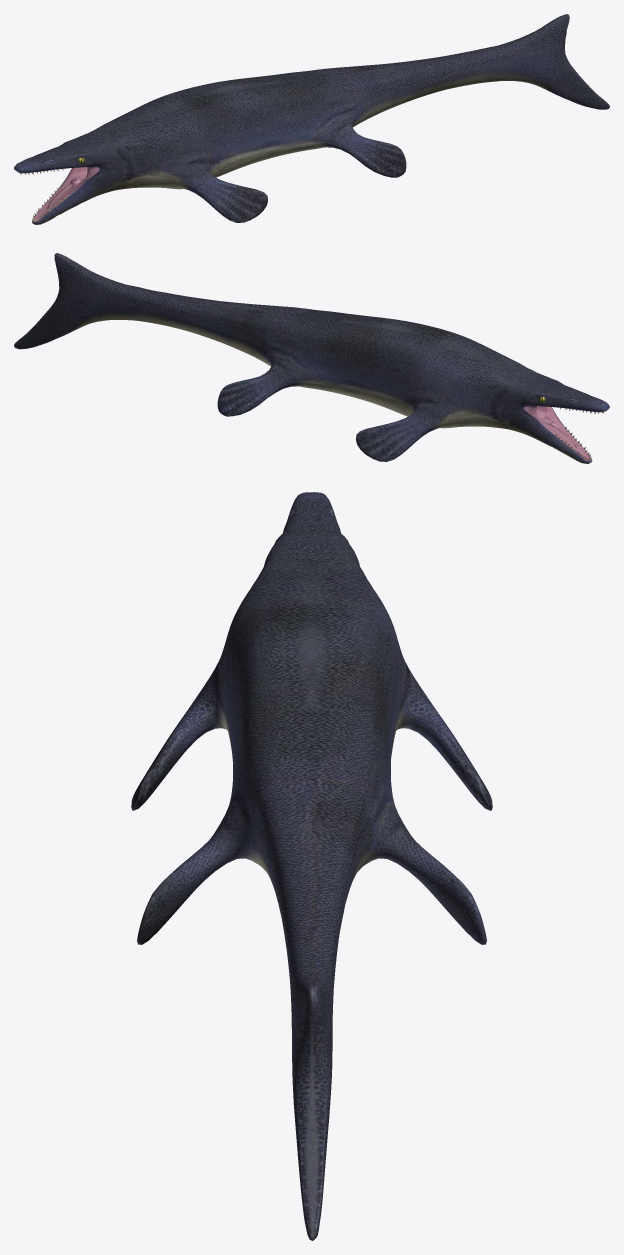
The model's file is mosasaur.glb.
3 renders of one model, top to bottom at view 1: azimuth 30°, elevation 25°; view 2: azimuth 150°, elevation 25°; view 3: azimuth 270°, elevation 25°, orthographic. The views are drawn at different scales.
Visible parts, largest first — view 1: Animal; view 2: Animal; view 3: Animal.
Boxes of the visible parts, box(x1,y1,x2,y2) form: Animal: box(14, 14, 609, 224); Animal: box(14, 253, 609, 463); Animal: box(131, 492, 492, 1240).
Bounding box in the file's own units: 3.2 × 0.5807 × 0.8418.
2 materials, 2 textured.
